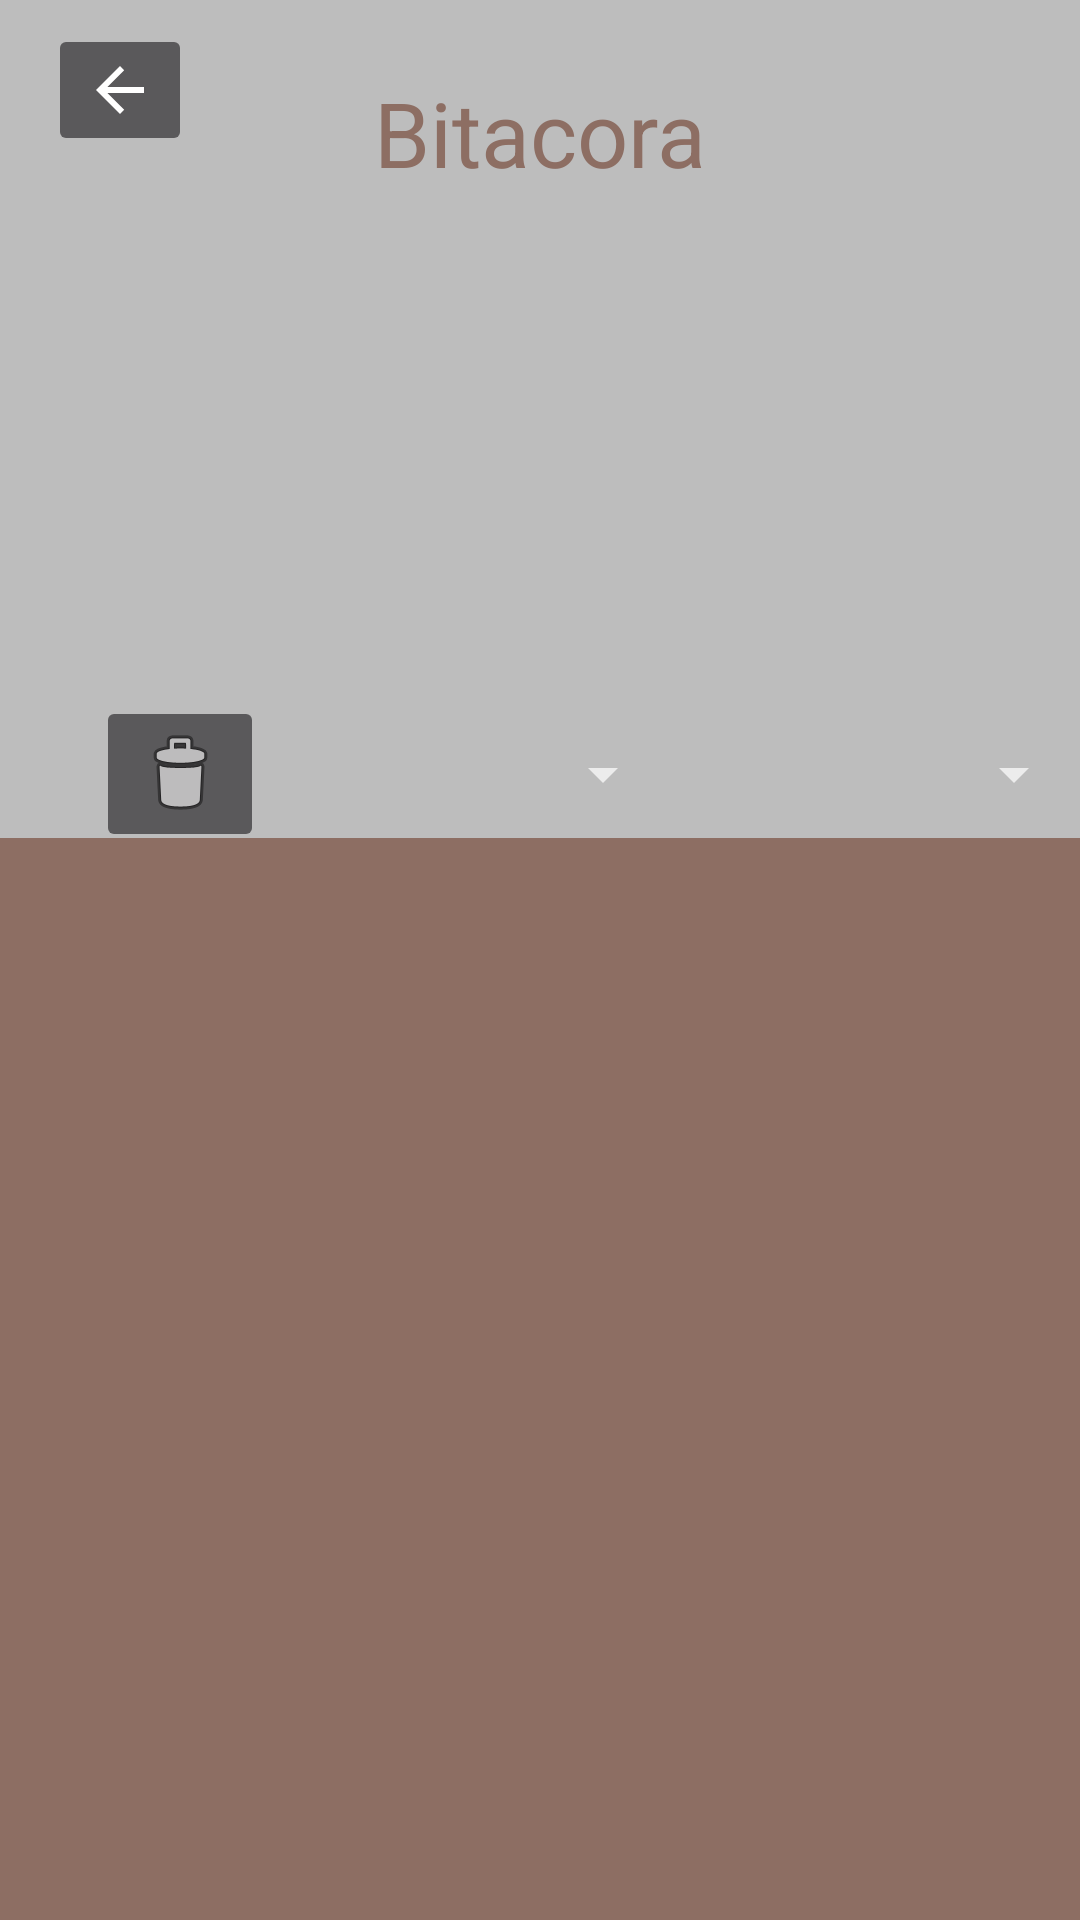

Icons on this 1080px×1920px Android screen, each with its box as (x1, y1, x2, y2):
delete: (108, 714, 252, 834)
